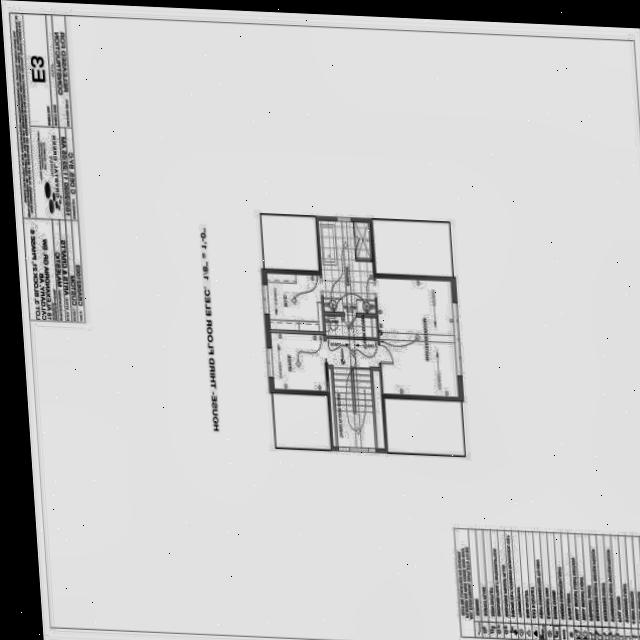room: (375, 273, 458, 402), (270, 329, 326, 395), (323, 316, 377, 338), (354, 221, 370, 260)
